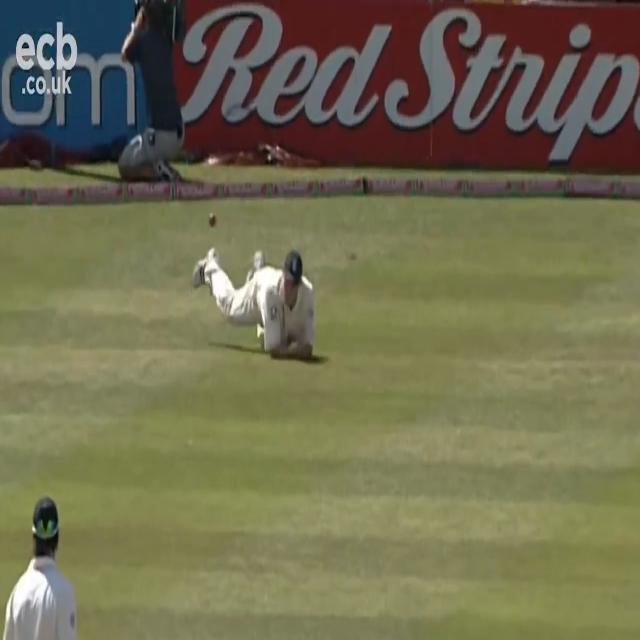ball: (208, 209, 218, 230)
